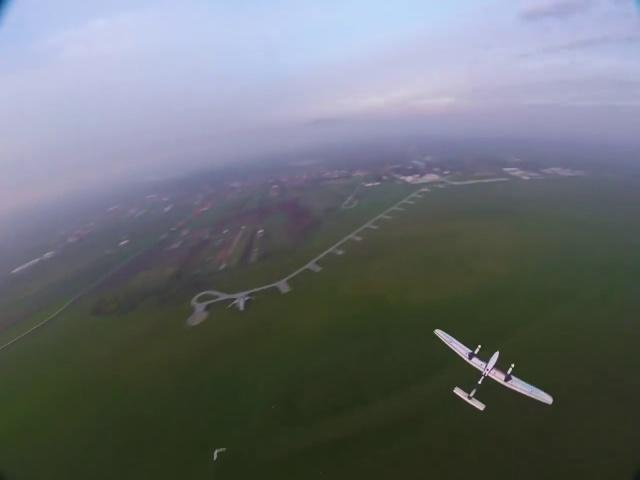Airplane: (430, 322, 556, 418)
